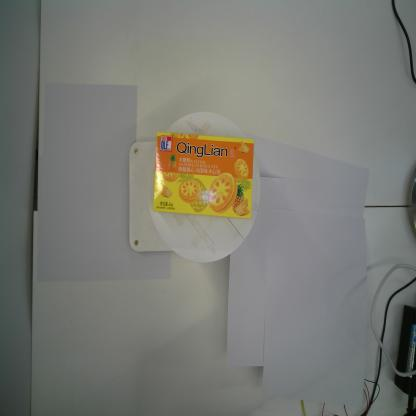Dessert: (151, 130, 255, 222)
